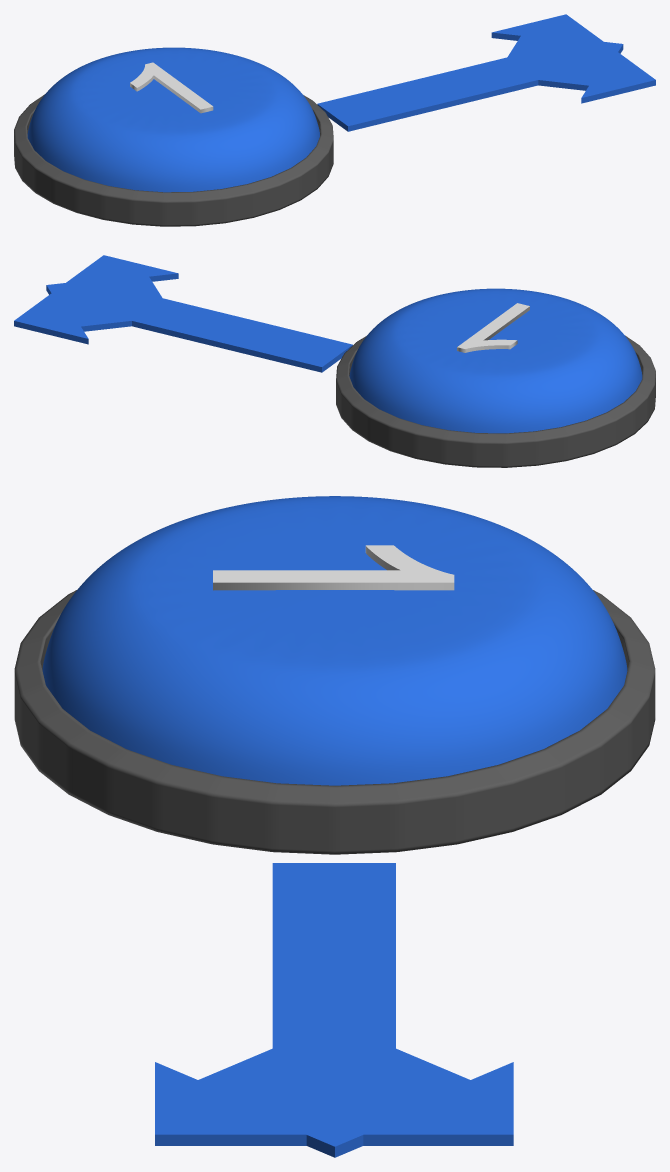
File: Blue Button_V01b.fbx
3 renders of one model, top to bottom at view 1: azimuth 30°, elevation 25°; view 2: azimuth 150°, elevation 25°; view 3: azimuth 270°, elevation 25°, orthographic. The views are drawn at different scales.
Parts seen in each view (by area): view 1: Button_Blue, Button_Base_Blue, Arrow_Straight_Blue, Arrow_Bend Up_Blue, Arrow_Bend Down_Blue; view 2: Button_Blue, Button_Base_Blue, Arrow_Straight_Blue, Arrow_Bend Up_Blue, Arrow_Bend Down_Blue; view 3: Button_Blue, Button_Base_Blue, Arrow_Bend Up_Blue, Arrow_Straight_Blue, Arrow_Bend Down_Blue.
Part boxes in pixels (<box>): Button_Blue: <box>27,47,319,192</box>; Button_Base_Blue: <box>14,94,333,226</box>; Arrow_Straight_Blue: <box>317,34,623,131</box>; Arrow_Bend Up_Blue: <box>317,14,606,131</box>; Arrow_Bend Down_Blue: <box>319,49,655,125</box>; Button_Blue: <box>349,288,642,433</box>; Button_Base_Blue: <box>336,335,655,467</box>; Arrow_Straight_Blue: <box>46,275,351,372</box>; Arrow_Bend Up_Blue: <box>14,289,352,372</box>; Arrow_Bend Down_Blue: <box>61,255,351,372</box>; Button_Blue: <box>42,496,627,785</box>; Button_Base_Blue: <box>14,590,655,854</box>; Arrow_Bend Up_Blue: <box>272,863,513,1145</box>; Arrow_Straight_Blue: <box>214,863,454,1157</box>; Arrow_Bend Down_Blue: <box>155,863,395,1145</box>.
Size of the model in its own units: 445 by 52.55 by 210.
